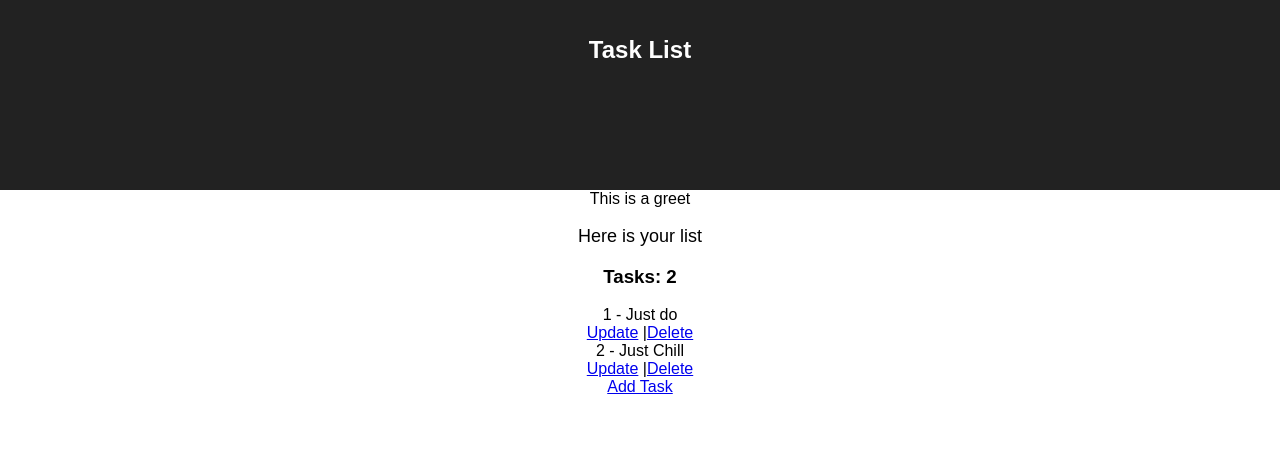
Test case: Add Task List › toggles form on clicking add task
What coordinates should you click on to do the following:
click the link "Add Task"
I would click on:
 (640, 387)
Its box is top-left (607, 378), bottom-right (673, 395).
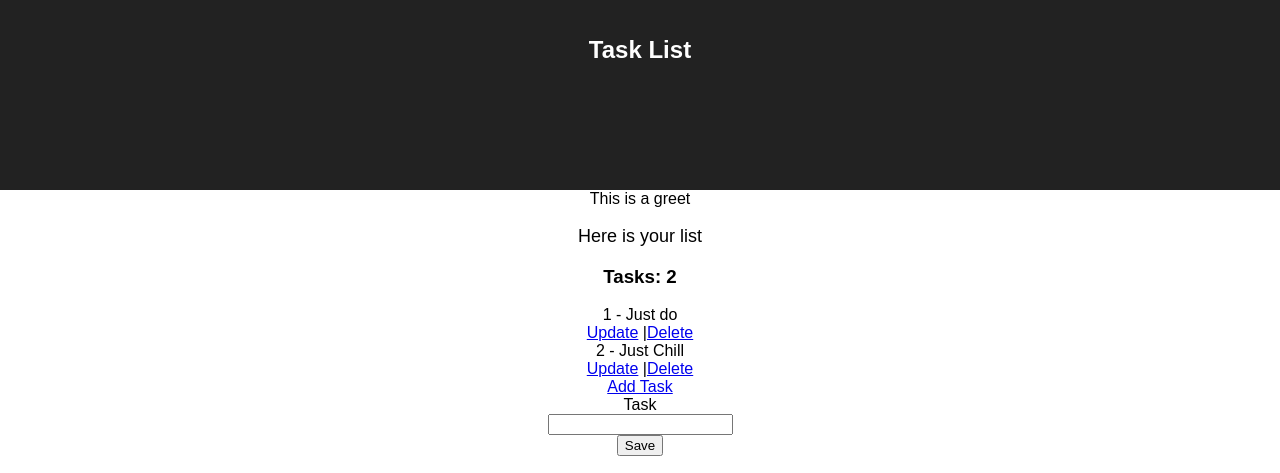
Now the element with class "Form" is shown, box top-left (548, 396), bottom-right (733, 456)
What coordinates should you click on to do the following:
click the link "Add Task"
I would click on:
 (640, 387)
Its box is top-left (607, 378), bottom-right (673, 395).
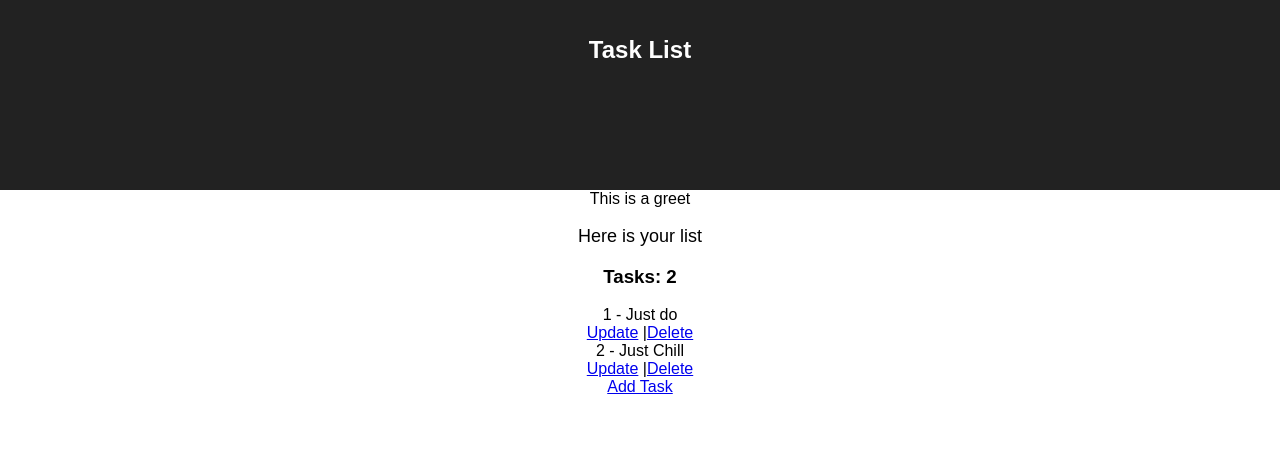
Now the element with class "Form" is gone
